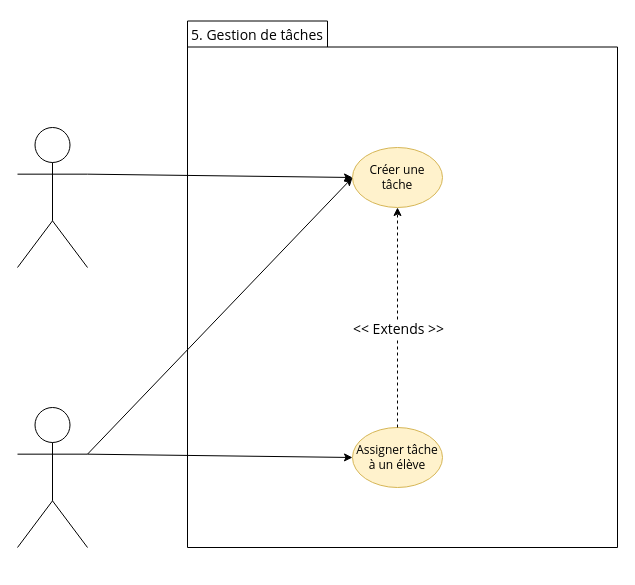
The diagram is 635 pixels wide and 585 high, and some of its shapes have lost their labels. Each missing label, with the centre of its shape:
"Tuteur" goes at (52,477).
"Élève" goes at (52,197).
